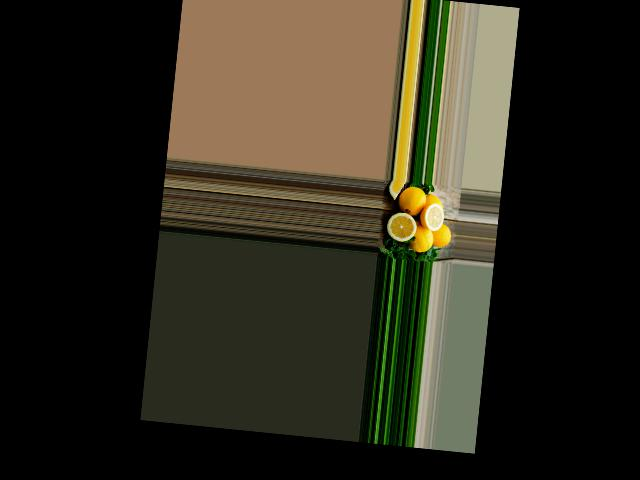lemon: (423, 192, 443, 210)
